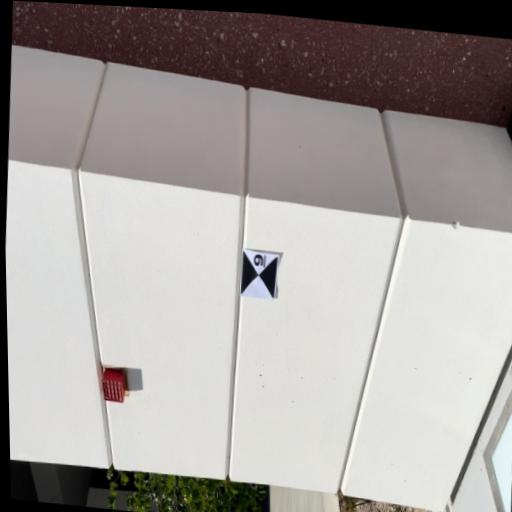target9: (239, 248, 278, 301)
